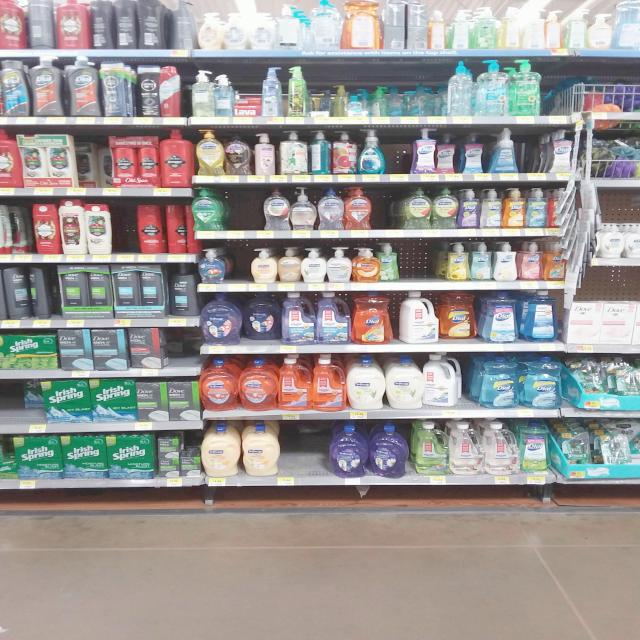empty_space: (1, 388, 39, 424), (398, 247, 439, 277), (289, 429, 316, 471), (84, 147, 110, 183), (232, 189, 256, 227), (116, 208, 137, 248), (376, 196, 396, 227), (229, 247, 247, 277)
